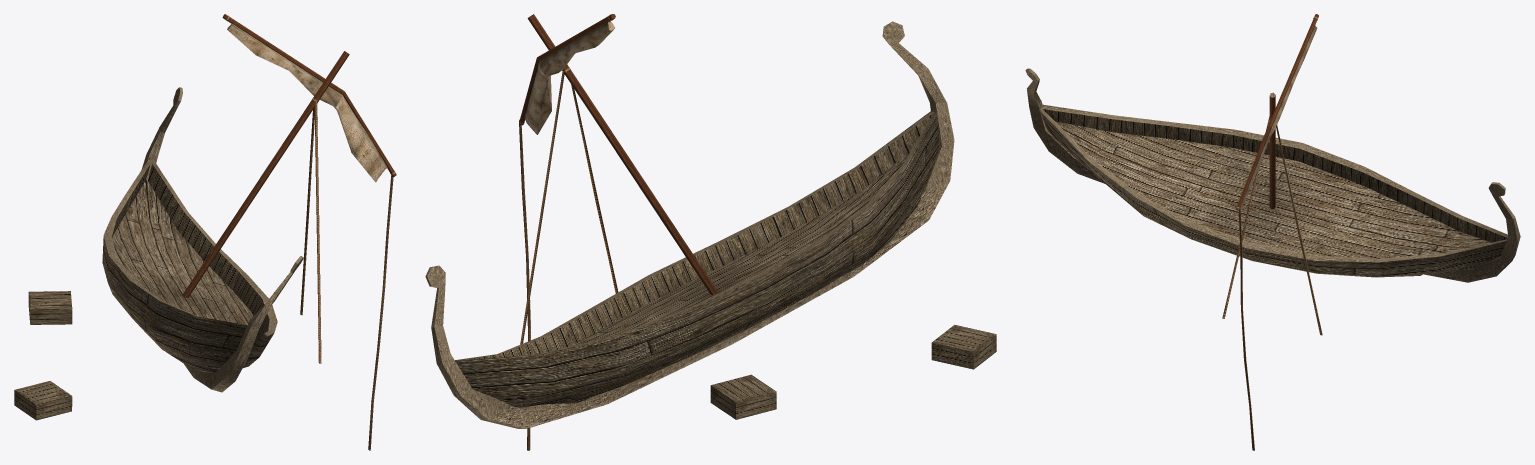
The model's file is mm9_deco_shipwreck.glb.
3 renders of one model, left to right at view 1: azimuth 30°, elevation 25°; view 2: azimuth 150°, elevation 25°; view 3: azimuth 270°, elevation 25°, orthographic. The views are drawn at different scales.
Parts seen in each view (by area): view 1: Shipwreck; view 2: Shipwreck; view 3: Shipwreck.
Part boxes in pixels (x1,y1,x2,y2): Shipwreck: [14, 14, 396, 450]; Shipwreck: [425, 14, 996, 450]; Shipwreck: [1025, 14, 1520, 450].
Bounding box in the file's own units: 16.15 × 17.23 × 19.88.
Materials: 1 (1 with a texture image).
